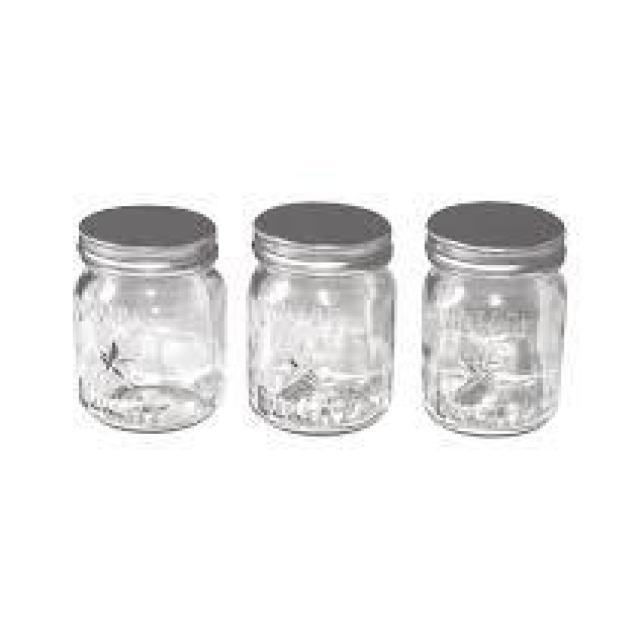Glass: (70, 205, 230, 435), (245, 199, 398, 437), (418, 200, 567, 440)
